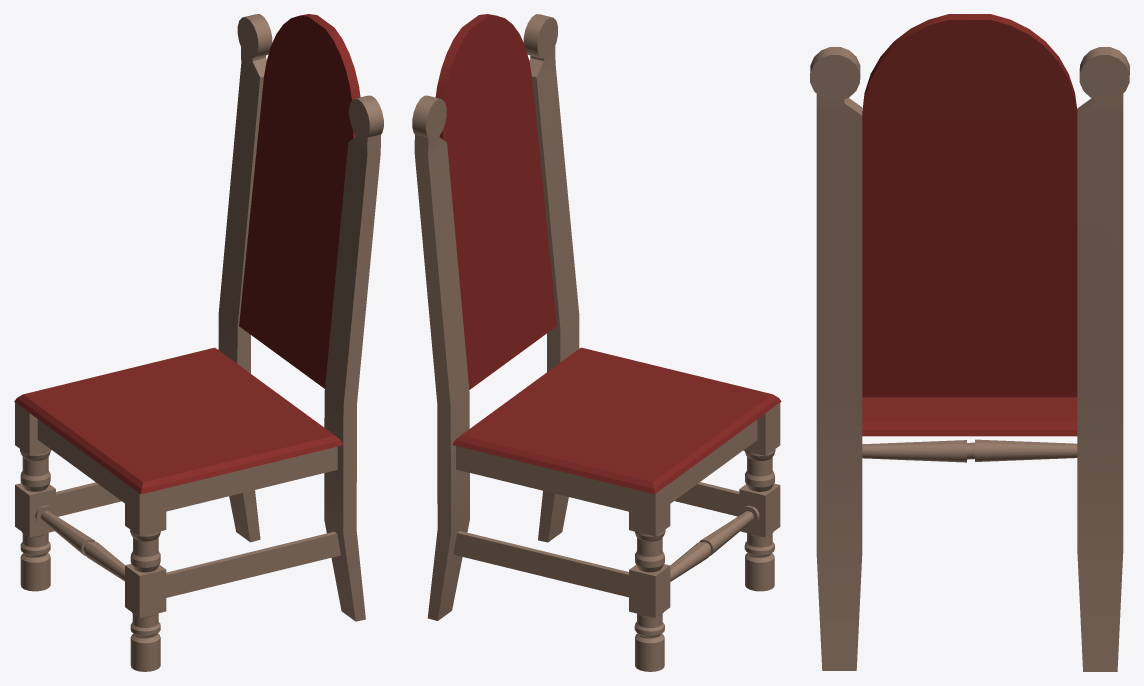
File: Chair.fbx
3 renders of one model, left to right at view 1: azimuth 30°, elevation 25°; view 2: azimuth 150°, elevation 25°; view 3: azimuth 270°, elevation 25°, orthographic. The views are drawn at different scales.
Visible parts, largest first — view 1: Chair; view 2: Chair; view 3: Chair.
Boxes of the visible parts, left/top/right/bottom form: Chair: left=14, top=14, right=383, bottom=671; Chair: left=412, top=14, right=781, bottom=671; Chair: left=810, top=14, right=1129, bottom=671.
Bounding box in the file's own units: 109 × 229 × 99.86.
